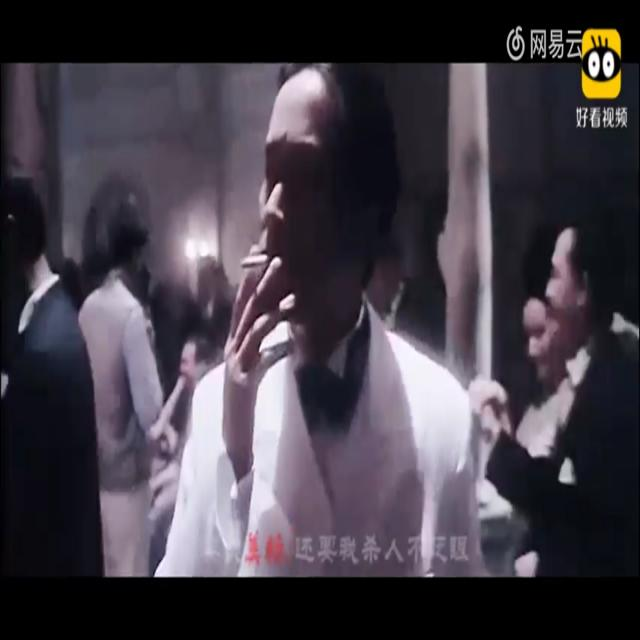cigarette: (239, 254, 269, 270)
